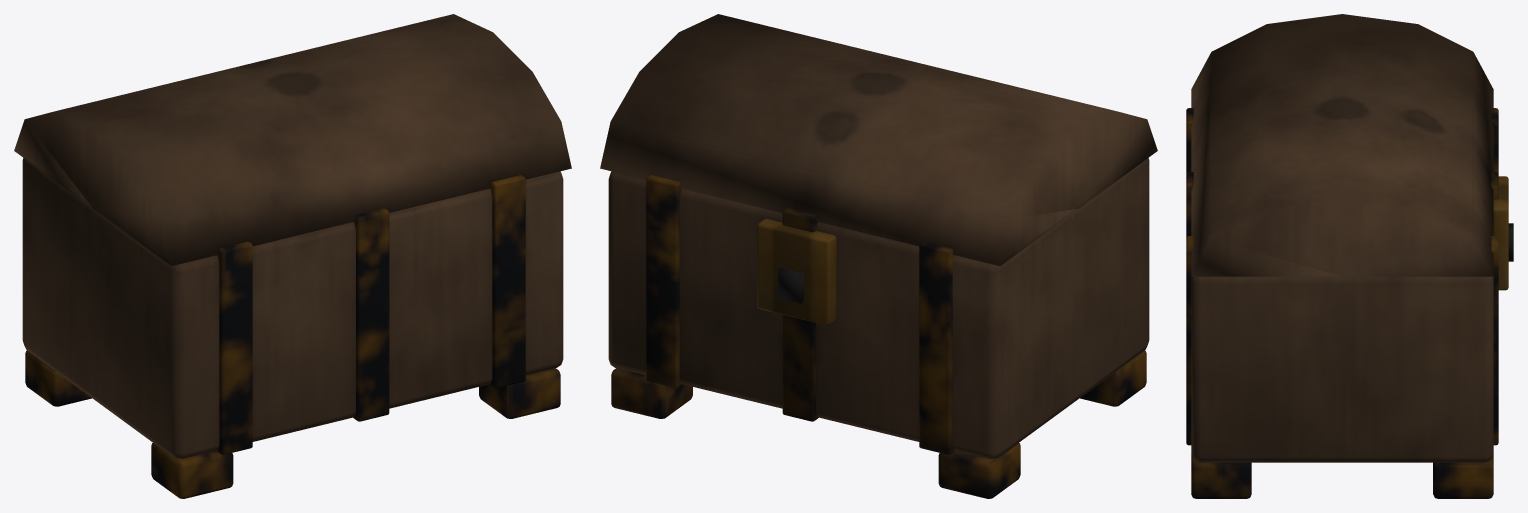
The model's file is spire_coffer.obj.
3 renders of one model, left to right at view 1: azimuth 30°, elevation 25°; view 2: azimuth 150°, elevation 25°; view 3: azimuth 270°, elevation 25°, orthographic. The views are drawn at different scales.
Parts seen in each view (by area): view 1: part0, part1; view 2: part0, part1, part2, part3; view 3: part0, part1, part2.
Part boxes in pixels (bbox=[...]): part0: bbox=[14, 14, 571, 458]; part1: bbox=[25, 175, 560, 498]; part0: bbox=[600, 14, 1157, 458]; part1: bbox=[611, 175, 1146, 498]; part2: bbox=[757, 218, 836, 325]; part3: bbox=[778, 268, 803, 303]; part0: bbox=[1191, 14, 1493, 462]; part1: bbox=[1186, 108, 1498, 498]; part2: bbox=[1493, 176, 1508, 290].
Bounding box in the file's own units: 0.88 × 0.665 × 0.65.
